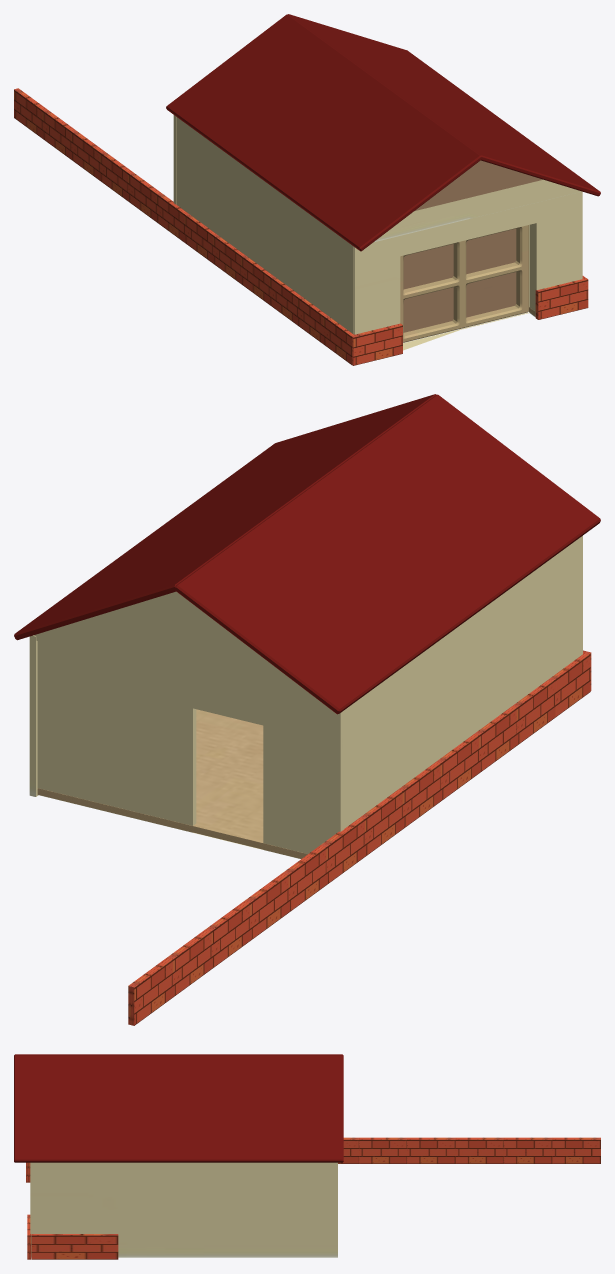
File: casa.obj
The picture shows the model from 3 angles, top to bottom: view 1: azimuth 30°, elevation 25°; view 2: azimuth 150°, elevation 25°; view 3: azimuth 270°, elevation 25°; orthographic projection. The views are drawn at different scales.
Visible parts, largest first — view 1: pasted__polySurface2, pasted__group8 group20 pasted__pasted__pasted__pCube2 pasted__pa, pCube4, pCube8, group84_pasted__pCube11, pasted__pasted__pasted__pCube3 pasted__pasted__group38 pasted__g, pCube14, pasted__pasted__pCube11 pasted__group73 group74, pasted__pCube11 group73; view 2: pasted__polySurface2, pasted__pasted__pCube2 pasted__group14 group22, pasted__group8 group20 pasted__pasted__pasted__pCube2 pasted__pa, group84_pasted__pCube11, pasted__pasted__pasted__pCube3 pasted__pasted__group38 pasted__g, pasted__pasted__pCube3 pasted__group8 group20, pasted__pasted__pasted__pasted__pCube2 pasted__pasted__pasted__g; view 3: pasted__polySurface2, pasted__pasted__pasted__pasted__pCube2 pasted__pasted__pasted__g, group84_pasted__pCube11, pasted__pCube11 group78.
Boxes of the visible parts, box(x1,y1,x2,y2) form: pasted__polySurface2: box(166, 14, 600, 251); pasted__group8 group20 pasted__pasted__pasted__pCube2 pasted__pa: box(176, 117, 353, 334); pCube4: box(354, 191, 582, 350); pCube8: box(400, 225, 528, 342); group84_pasted__pCube11: box(14, 88, 356, 364); pasted__pasted__pasted__pCube3 pasted__pasted__group38 pasted__g: box(374, 179, 581, 242); pCube14: box(415, 160, 542, 210); pasted__pasted__pCube11 pasted__group73 group74: box(535, 277, 588, 319); pasted__pCube11 group73: box(352, 323, 402, 365); pasted__polySurface2: box(14, 394, 600, 714); pasted__pasted__pCube2 pasted__group14 group22: box(37, 641, 344, 858); pasted__group8 group20 pasted__pasted__pasted__pCube2 pasted__pa: box(344, 536, 582, 828); group84_pasted__pCube11: box(128, 652, 590, 1025); pasted__pasted__pasted__pCube3 pasted__pasted__group38 pasted__g: box(33, 591, 335, 713); pasted__pasted__pCube3 pasted__group8 group20: box(37, 709, 307, 858); pasted__pasted__pasted__pasted__pCube2 pasted__pasted__pasted__g: box(29, 635, 38, 796); pasted__polySurface2: box(14, 1054, 343, 1162); pasted__pasted__pasted__pasted__pCube2 pasted__pasted__pasted__g: box(30, 1162, 337, 1257); group84_pasted__pCube11: box(338, 1137, 600, 1163); pasted__pCube11 group78: box(32, 1234, 118, 1259).
Size of the model in its own units: 532 by 390 by 1318.
20 materials, 20 textured.
